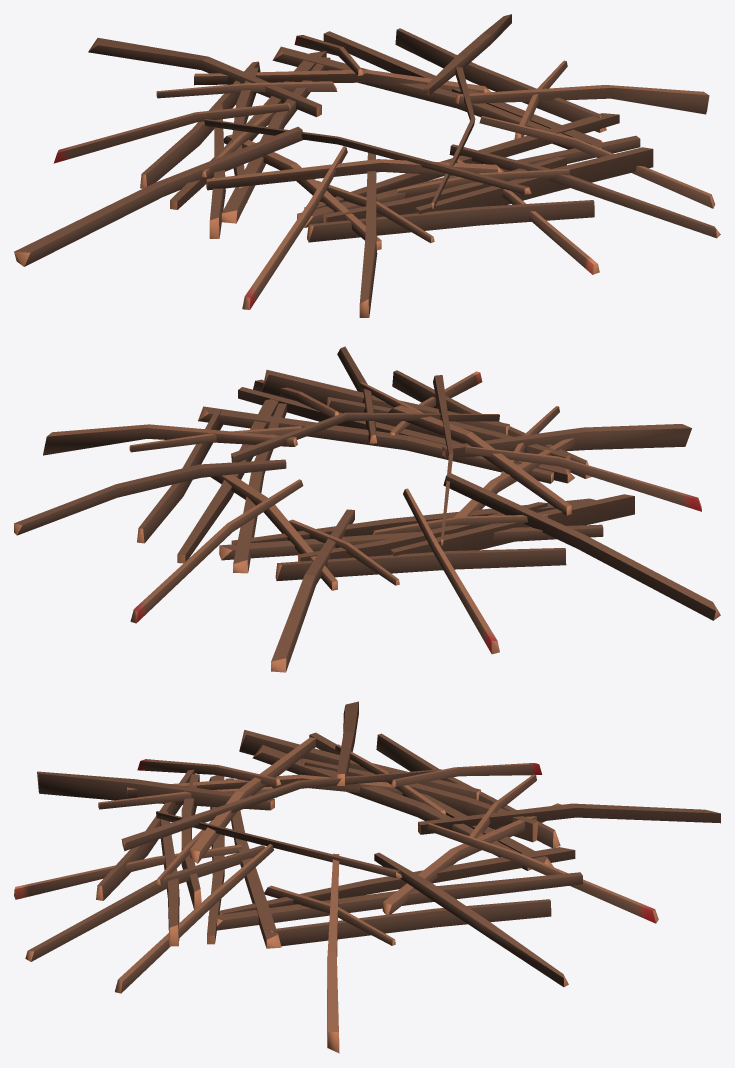
File: Spike_Trap_1A_Cover.fbx
The picture shows the model from 3 angles, top to bottom: view 1: azimuth 30°, elevation 25°; view 2: azimuth 150°, elevation 25°; view 3: azimuth 270°, elevation 25°; orthographic projection.
Parts seen in each view (by area): view 1: Spike_Trap_1A_Cover; view 2: Spike_Trap_1A_Cover; view 3: Spike_Trap_1A_Cover.
Boxes of the visible parts, x1=… form: Spike_Trap_1A_Cover: x1=14, y1=14, x2=720, y2=317; Spike_Trap_1A_Cover: x1=14, y1=346, x2=720, y2=672; Spike_Trap_1A_Cover: x1=14, y1=701, x2=720, y2=1053.
Size of the model in its own units: 504 by 58.12 by 452.
